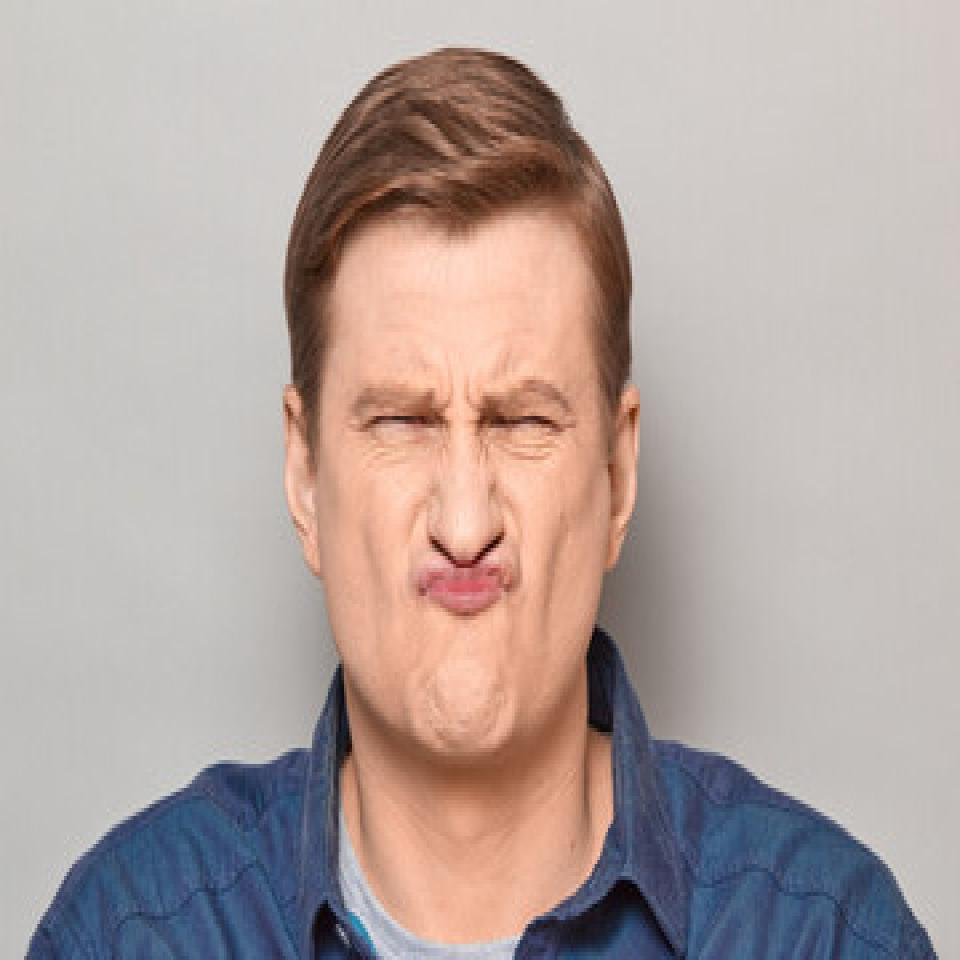Disgust: (321, 199, 610, 764)
